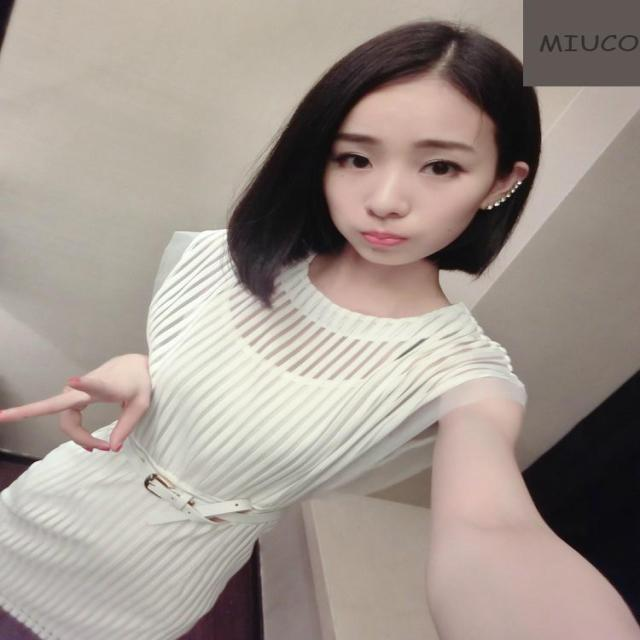vest dress: (2, 234, 526, 639)
